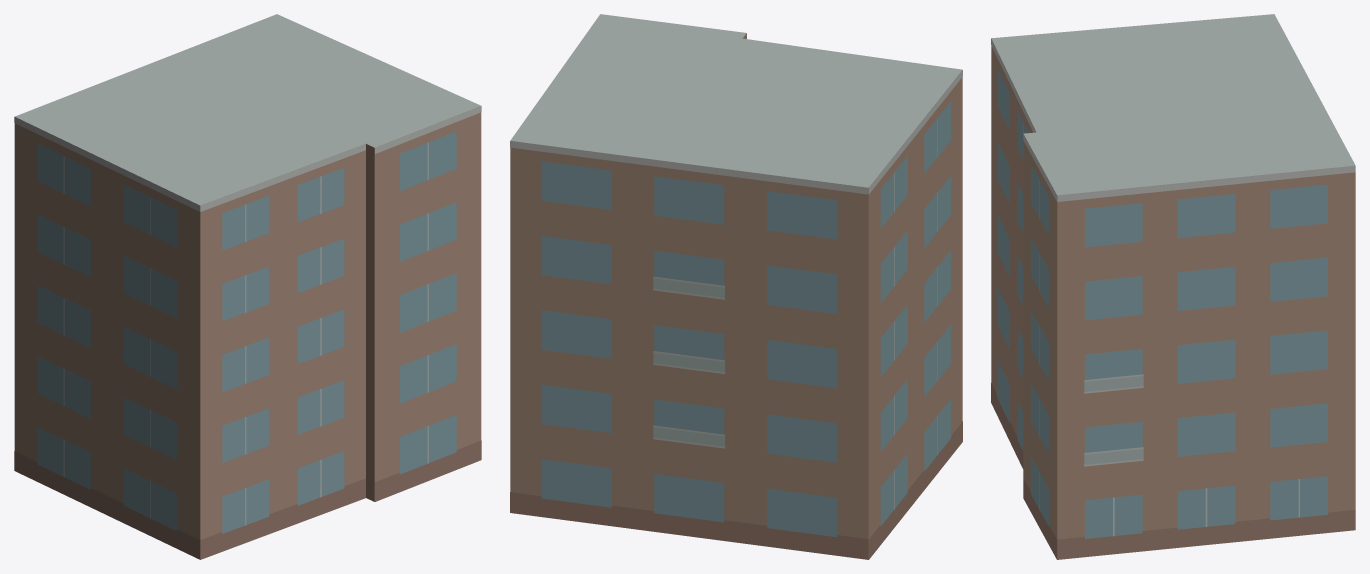
File: survey-upis-32800966.glb
3 views of the same model, side by side, from view 1: azimuth 30°, elevation 25°; view 2: azimuth 150°, elevation 25°; view 3: azimuth 270°, elevation 25° (orthographic). The views are drawn at different scales.
Visible parts, largest first — view 1: survey-upis-32800966.tmp; view 2: survey-upis-32800966.tmp; view 3: survey-upis-32800966.tmp.
Boxes of the visible parts, x1,y1,x2,y2 form: survey-upis-32800966.tmp: [14, 14, 481, 559]; survey-upis-32800966.tmp: [510, 14, 962, 559]; survey-upis-32800966.tmp: [991, 14, 1355, 559].
Bounding box in the file's own units: 14.31 × 13.4 × 12.16.
